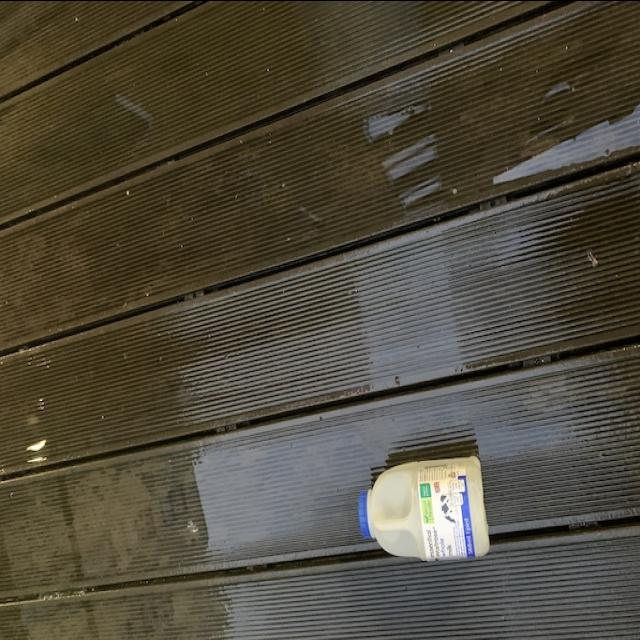HDPEM: (357, 452, 492, 562)
